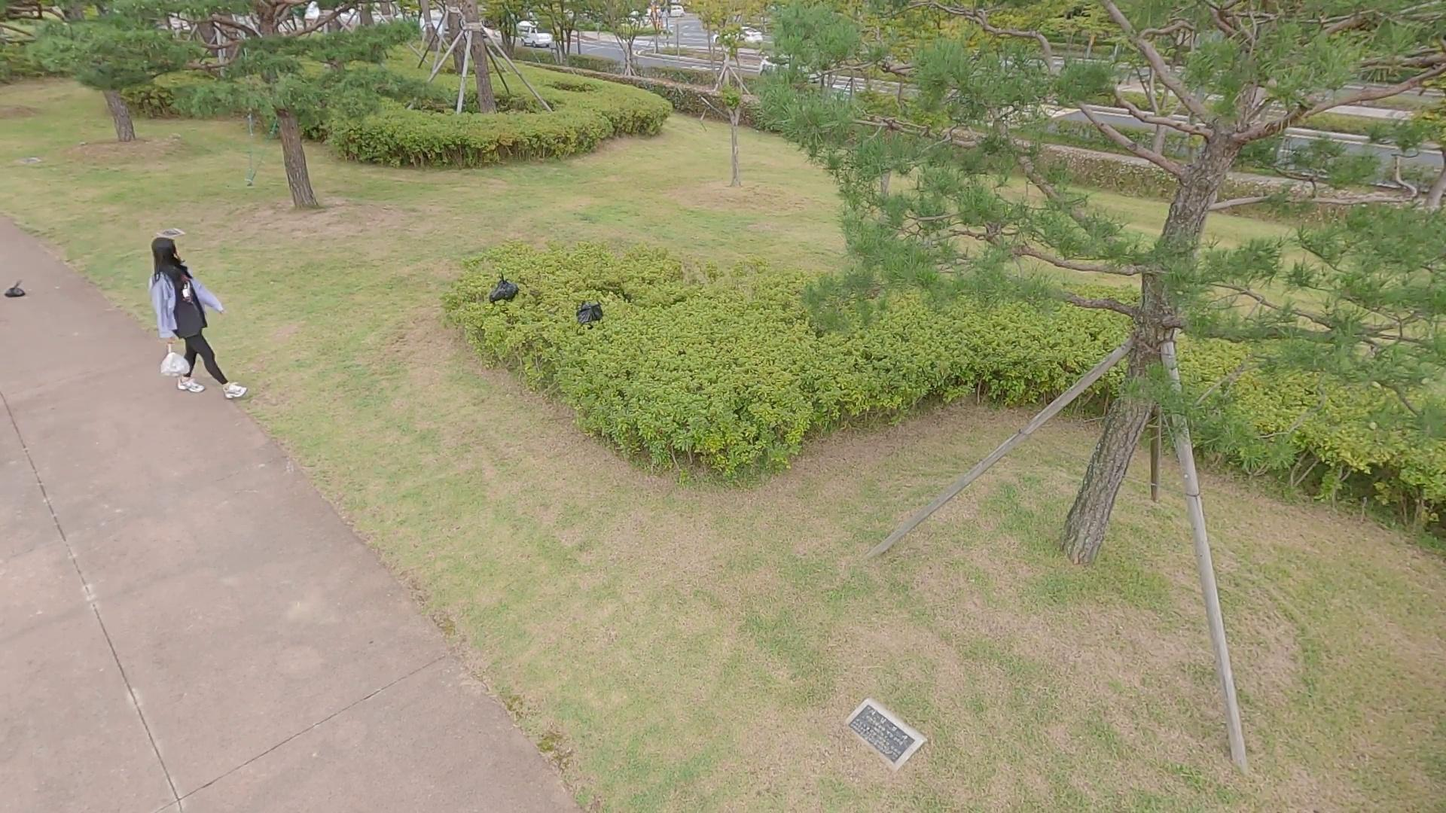person: (145, 230, 250, 400)
trash: (154, 339, 193, 382), (567, 295, 607, 327), (490, 269, 518, 307), (6, 277, 29, 302)
